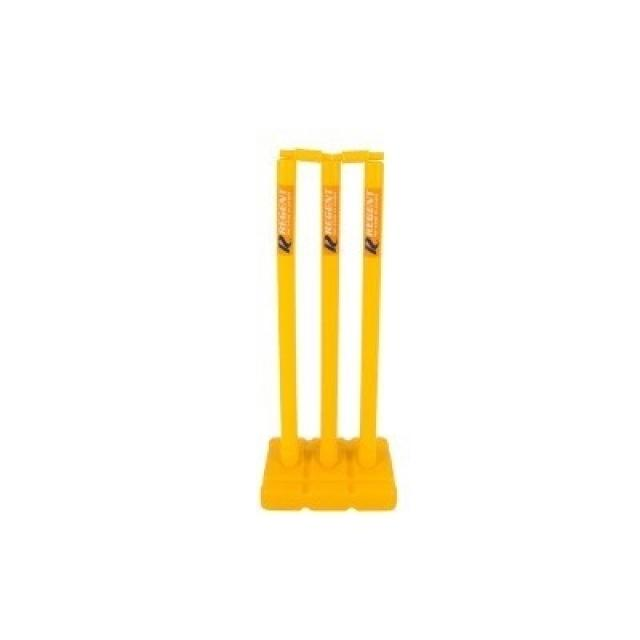stump: (272, 143, 376, 468)
